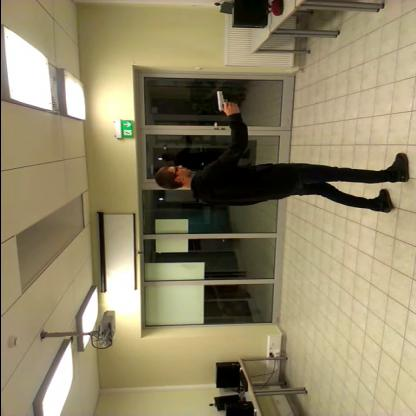Pistol: (214, 80, 238, 118)
